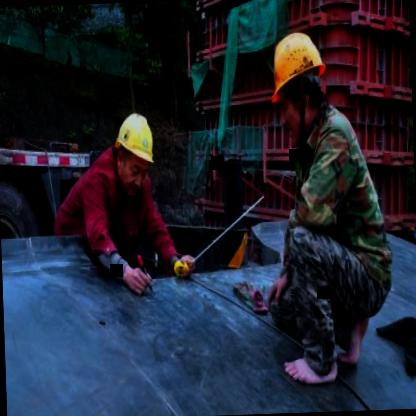helmet: (264, 20, 336, 144), (107, 105, 158, 199)
